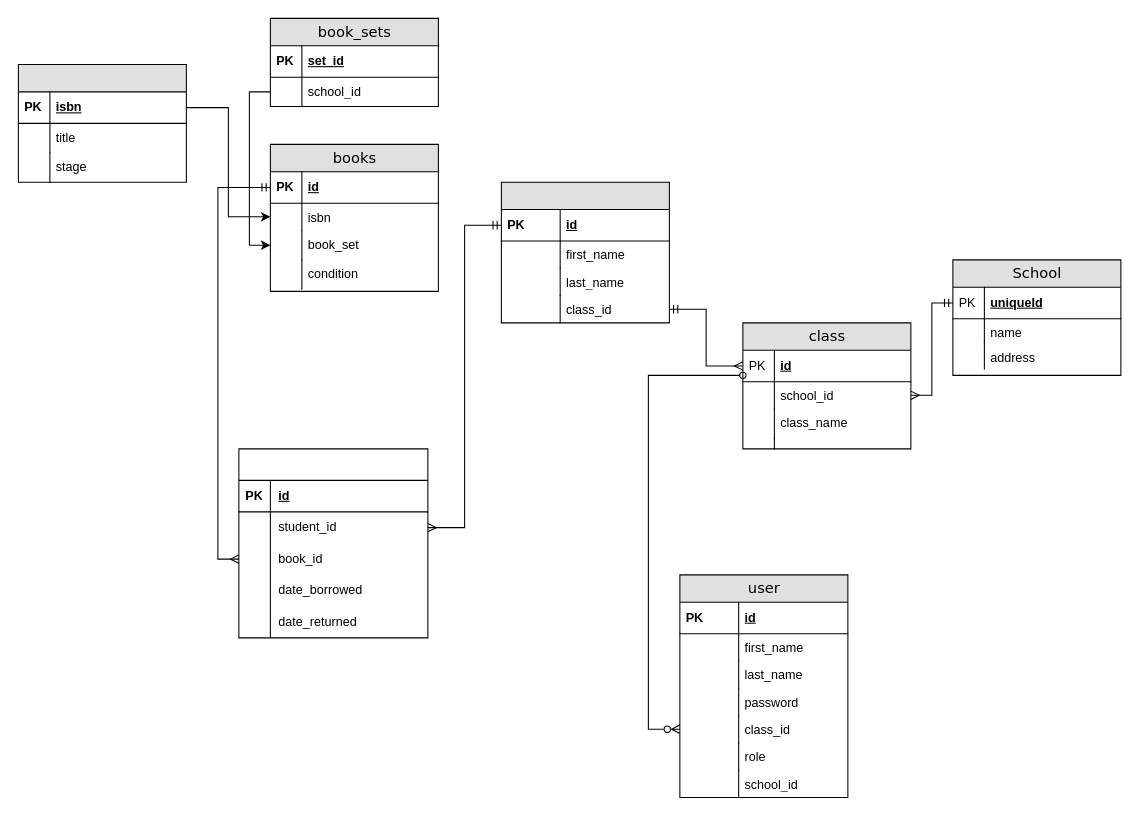
This 1139x819 diagram has some shape labels left out. The shapes that lost their labels are listed below. From the top down, each one's box as (x1, y1, x2, y2) in pixels, then its label:
(17, 64, 186, 182): master_books
(500, 181, 669, 323): student
(238, 448, 428, 638): borrow_record
